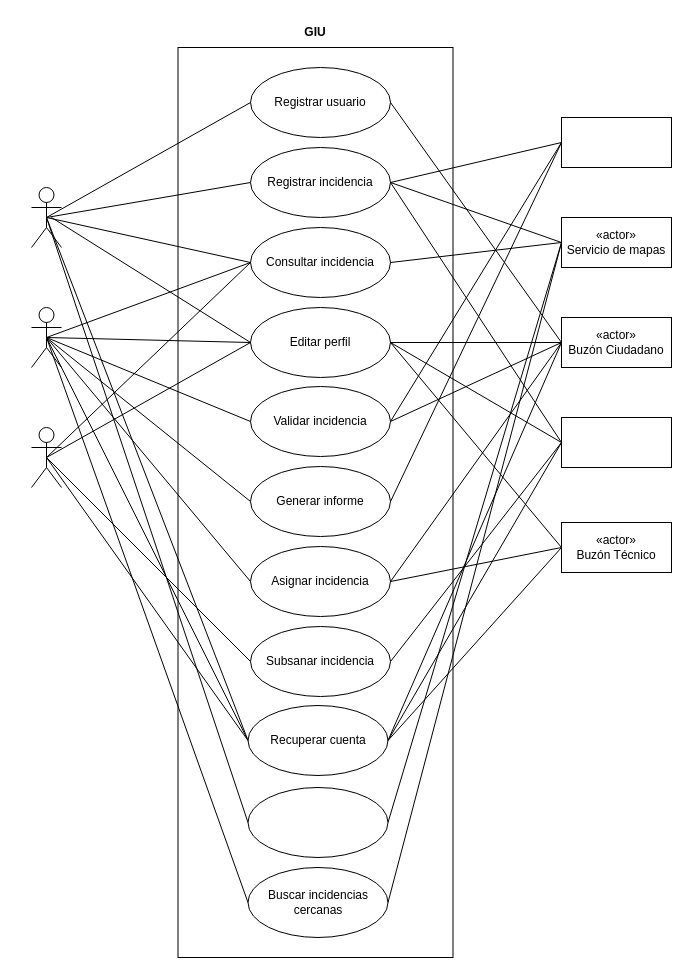
The diagram is 689 pixels wide and 975 high, and some of its shapes have lost their labels. Each missing label, with the centre of its shape:
"Ciudadano" belongs at (46,217).
"Consultar incidencias públicas" belongs at (317,822).
"Operador Municipal" belongs at (46,337).
"Técnico" belongs at (46,457).
"«actor» Agente de IA" belongs at (616,142).
"«actor» Buzón Operador Municipal" belongs at (616,442).
